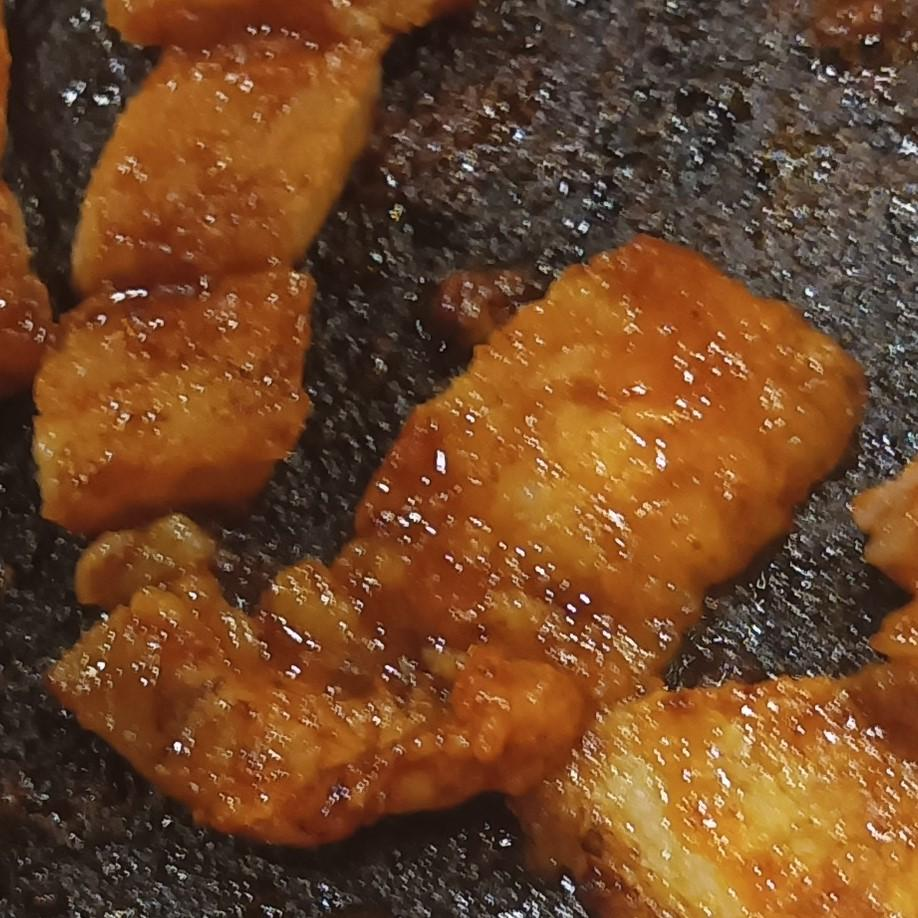Well-Cooked: (32, 0, 917, 917)
